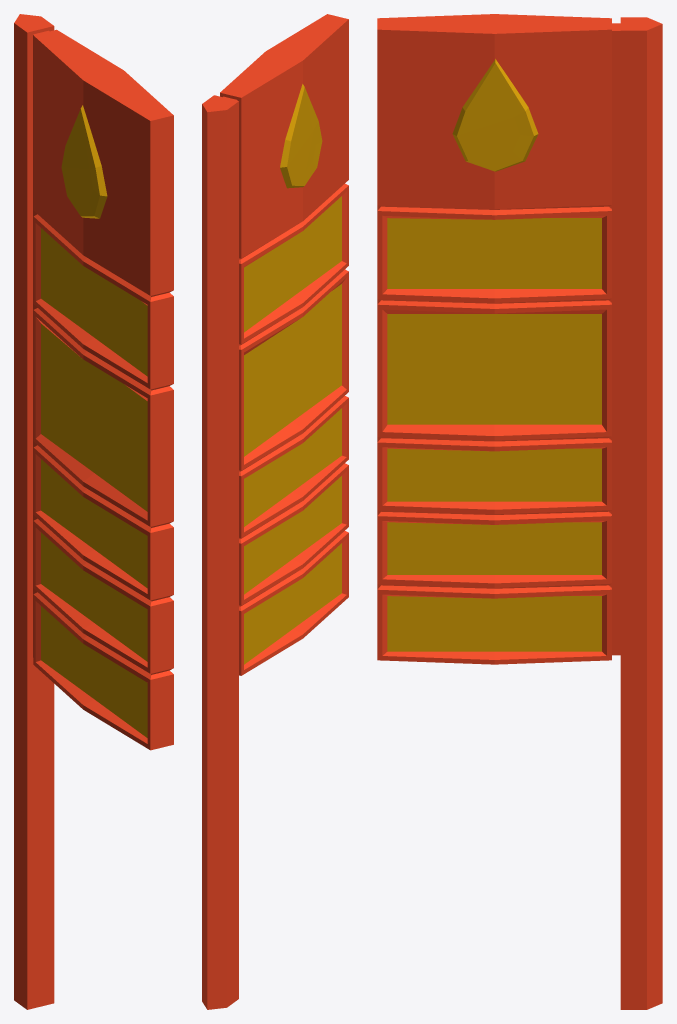
File: SM_Gas_Station_Sign_City.fbx
The picture shows the model from 3 angles, left to right: view 1: azimuth 30°, elevation 25°; view 2: azimuth 150°, elevation 25°; view 3: azimuth 270°, elevation 25°; orthographic projection. The views are drawn at different scales.
Visible parts, largest first — view 1: SM_Gas_Station_Sign_City; view 2: SM_Gas_Station_Sign_City; view 3: SM_Gas_Station_Sign_City.
Part boxes in pixels (left/top/right/bottom): SM_Gas_Station_Sign_City: left=14, top=14, right=173, bottom=1009; SM_Gas_Station_Sign_City: left=202, top=14, right=348, bottom=1009; SM_Gas_Station_Sign_City: left=377, top=14, right=662, bottom=1009.
Size of the model in its own units: 0.3923 by 8.05 by 2.12.
